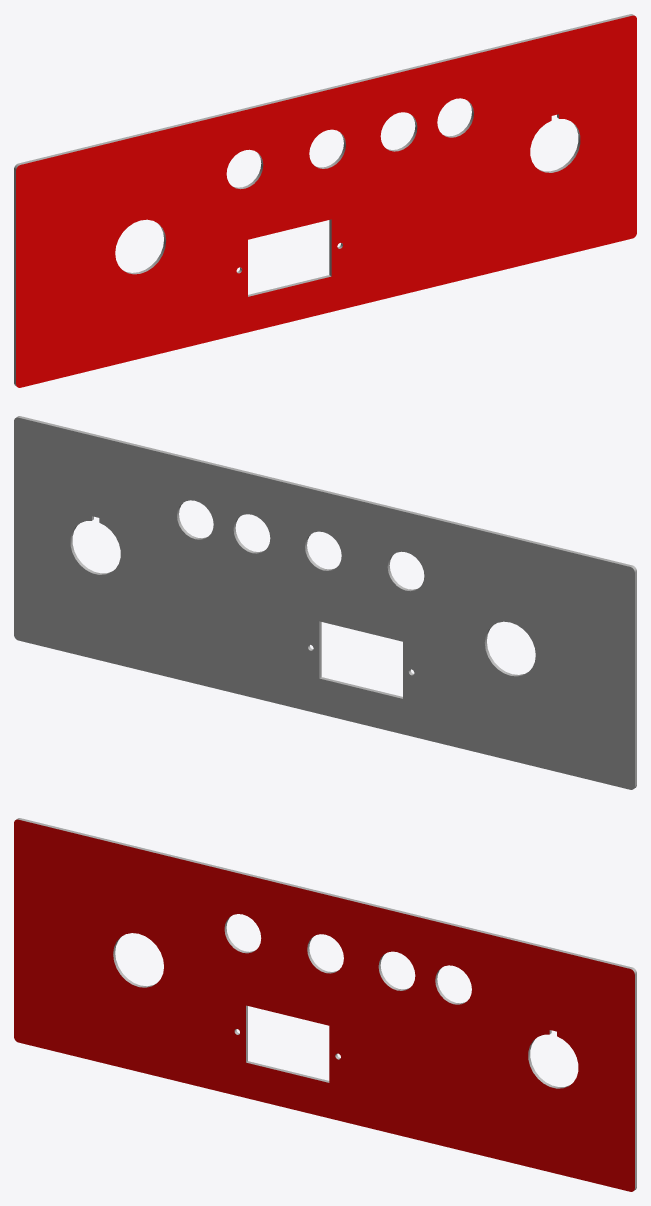
3 views of the same model, one above another, from view 1: azimuth 30°, elevation 25°; view 2: azimuth 150°, elevation 25°; view 3: azimuth 330°, elevation 25° (orthographic).
Parts seen in each view (by area): view 1: TEST-A230-0653-X100-4X8-EMZ; view 2: TEST-A230-0653-X100-4X8-EMZ; view 3: TEST-A230-0653-X100-4X8-EMZ.
Part boxes in pixels (<box>): TEST-A230-0653-X100-4X8-EMZ: <box>14,14,636,387</box>; TEST-A230-0653-X100-4X8-EMZ: <box>14,416,636,789</box>; TEST-A230-0653-X100-4X8-EMZ: <box>14,818,636,1191</box>.
Bounding box in the file's own units: 0.274 × 0.094 × 0.0016.
